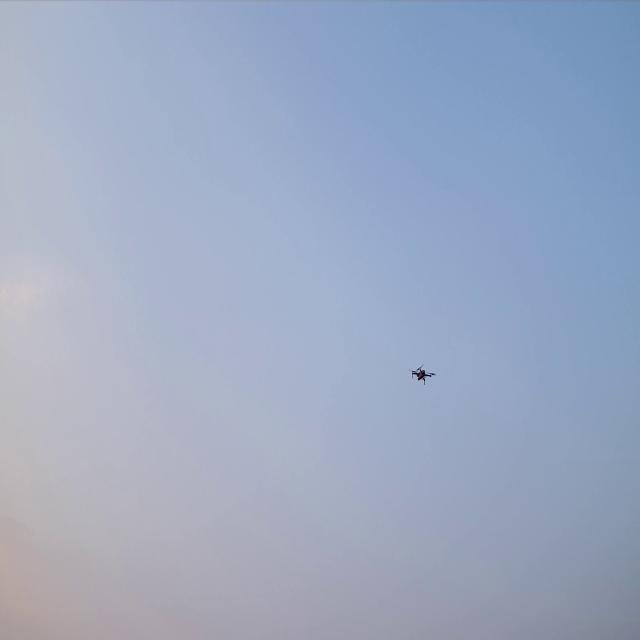UAV: (408, 362, 438, 386)
